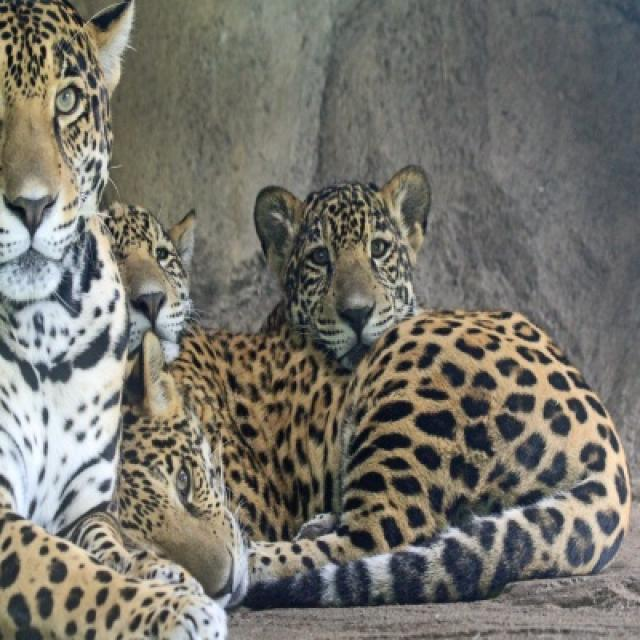Jaguar: (110, 309, 635, 613), (0, 0, 228, 638), (252, 171, 431, 362), (96, 201, 198, 366)
